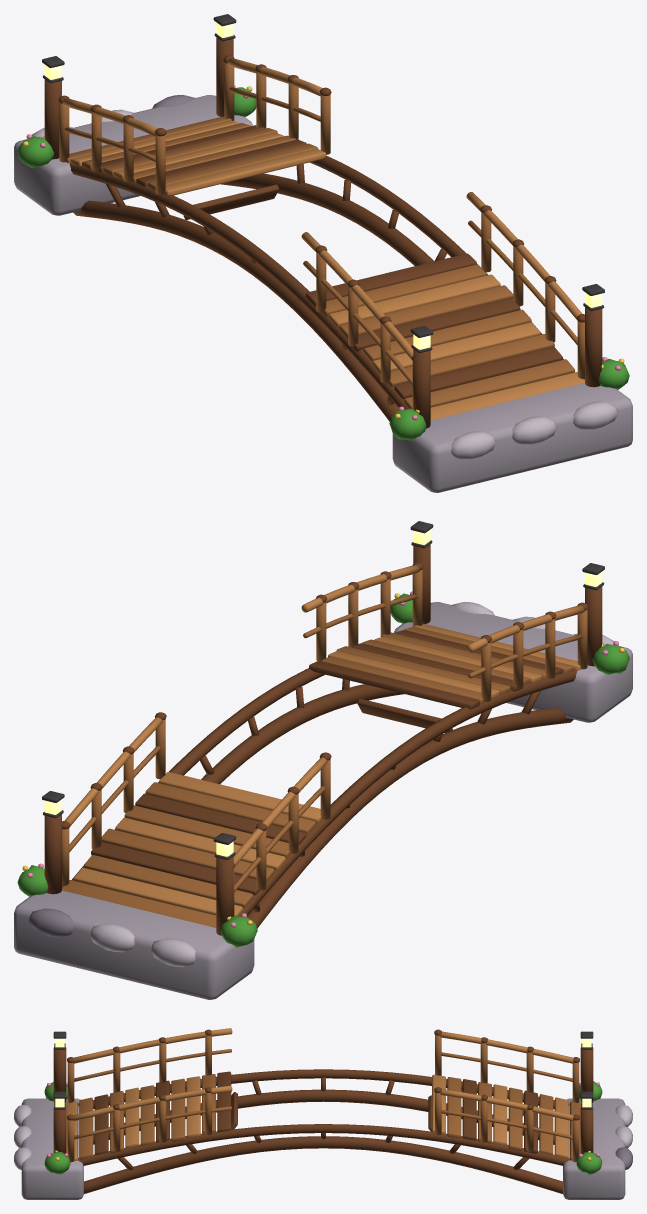
File: prop_bridge_broken_v02.glb
3 renders of one model, top to bottom at view 1: azimuth 30°, elevation 25°; view 2: azimuth 150°, elevation 25°; view 3: azimuth 270°, elevation 25°, orthographic. The views are drawn at different scales.
Visible parts, largest first — view 1: prop_bridge_broken_v02; view 2: prop_bridge_broken_v02; view 3: prop_bridge_broken_v02.
Boxes of the visible parts, bbox=[...] form: prop_bridge_broken_v02: bbox=[14, 14, 632, 492]; prop_bridge_broken_v02: bbox=[14, 521, 632, 999]; prop_bridge_broken_v02: bbox=[14, 1028, 632, 1199].
Size of the model in its own units: 4.07 by 2.7 by 12.92.
Materials: 2 (1 with a texture image).
